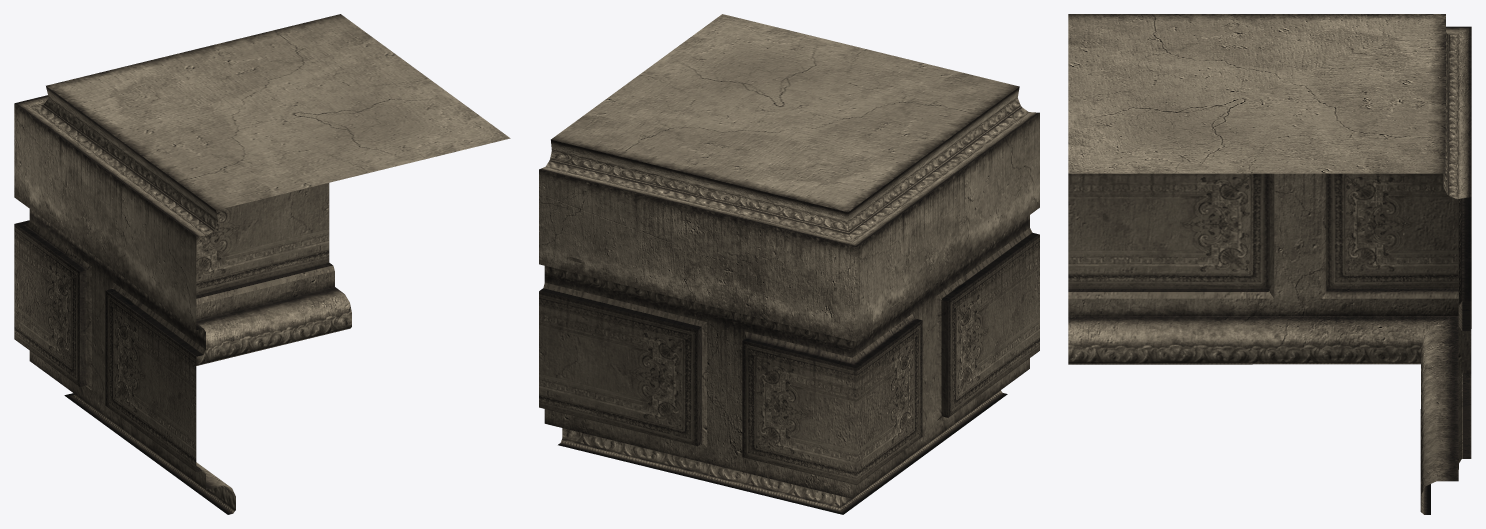
Rendered from corner_concave01_short.dae.
The picture shows the model from 3 angles, left to right: view 1: azimuth 30°, elevation 25°; view 2: azimuth 150°, elevation 25°; view 3: azimuth 270°, elevation 25°; orthographic projection. The views are drawn at different scales.
Parts seen in each view (by area): view 1: corner_concave_short; view 2: corner_concave_short; view 3: corner_concave_short.
Boxes of the visible parts, x1=… form: corner_concave_short: x1=14, y1=14, x2=510, y2=514; corner_concave_short: x1=539, y1=14, x2=1039, y2=514; corner_concave_short: x1=1068, y1=14, x2=1471, y2=514.
Bounding box in the file's own units: 2 × 1.87 × 2.
1 material, 1 textured.
